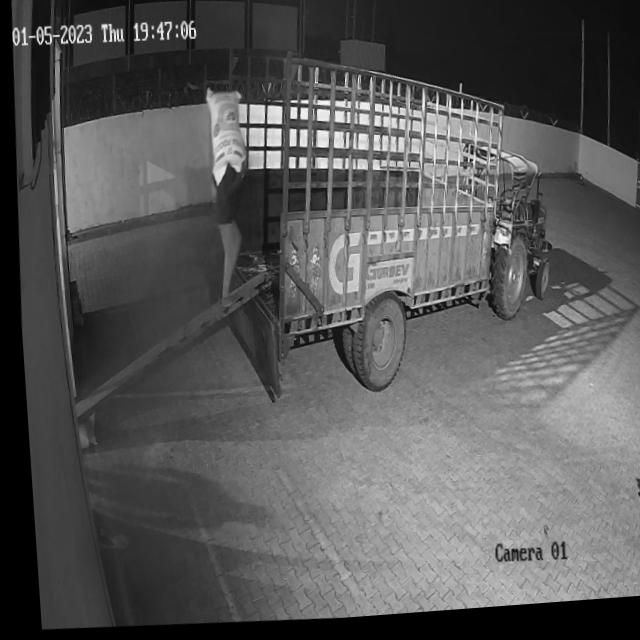sack: (201, 88, 248, 188)
